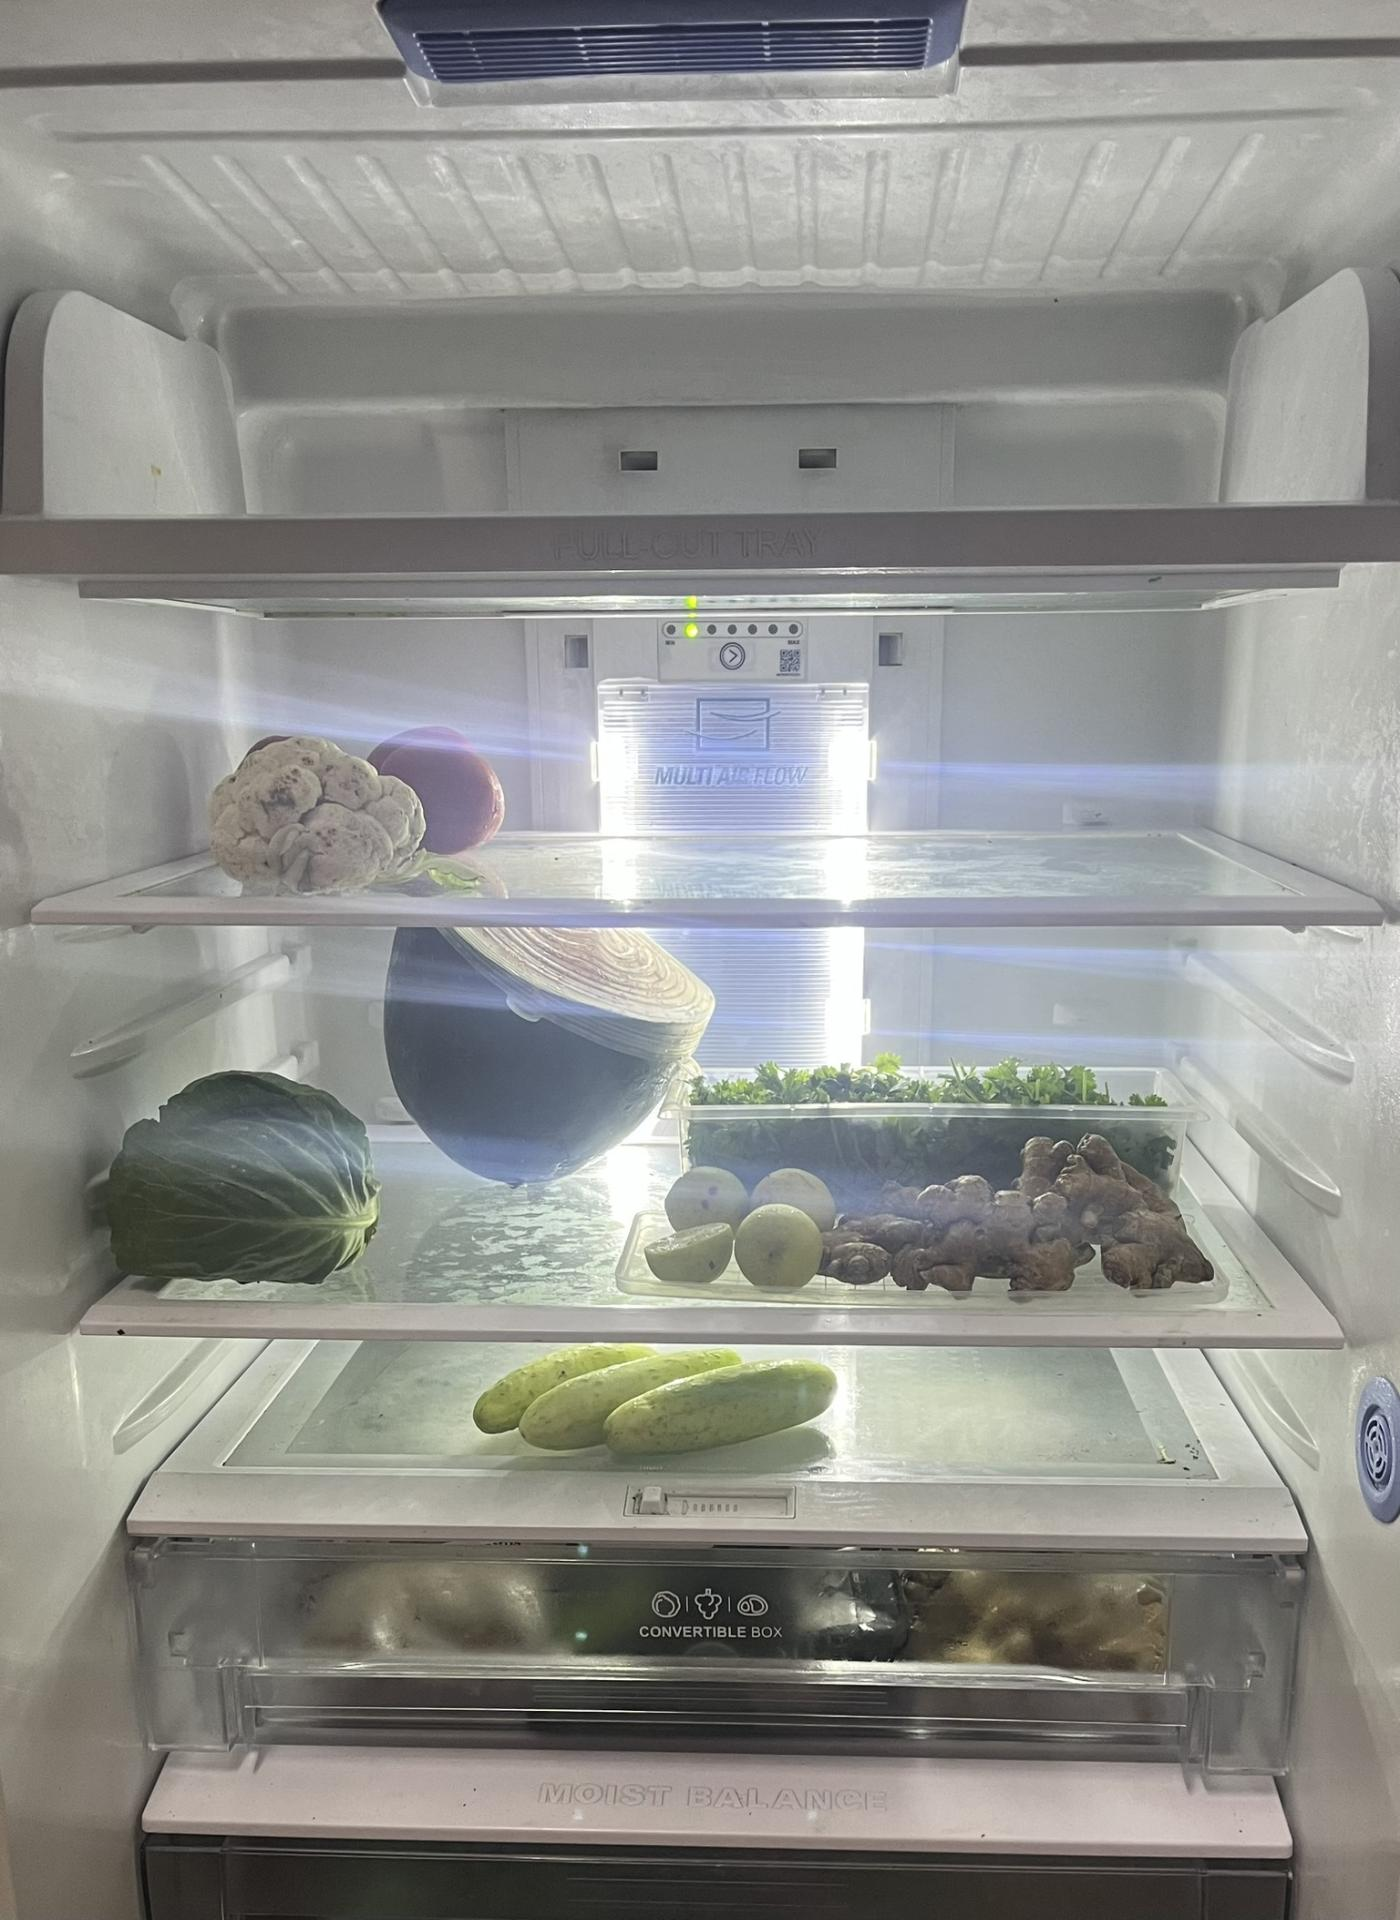cabbage: (103, 1072, 395, 1272)
cauliflower: (210, 729, 446, 888)
coriander: (693, 1057, 1194, 1169)
cucumber: (471, 1346, 838, 1459)
ginger: (832, 1140, 1233, 1294)
lemon: (644, 1154, 826, 1291)
tomato: (361, 726, 504, 866)
watermelon: (377, 915, 705, 1206)
